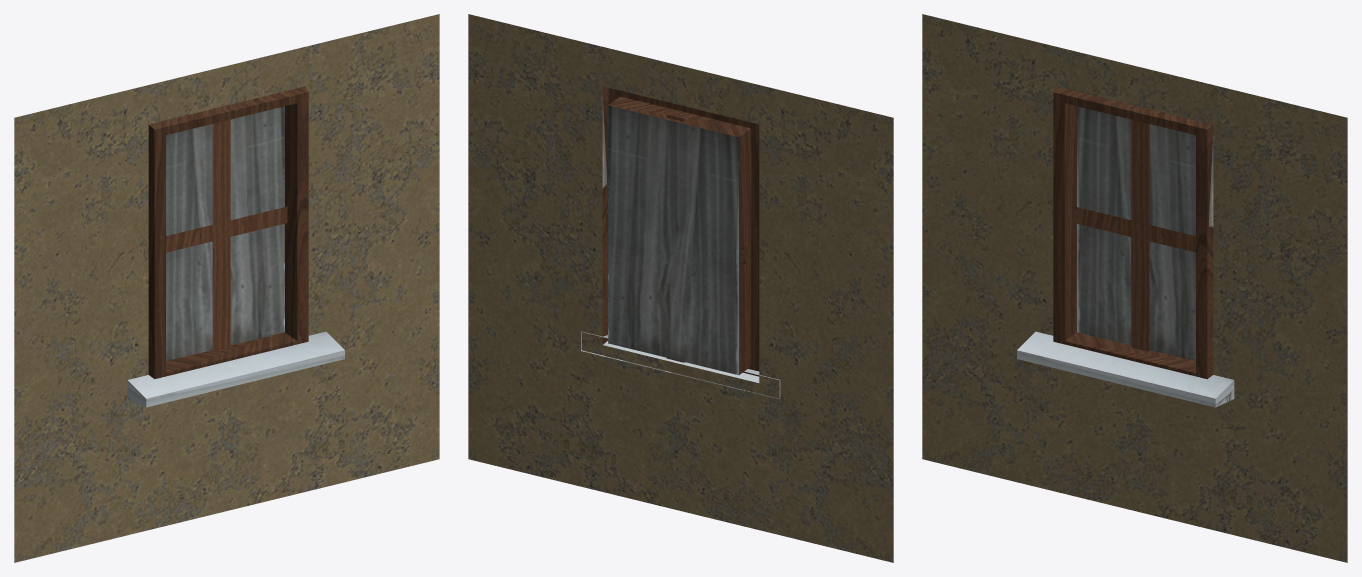
Rendered from window1.obj.
The picture shows the model from 3 angles, left to right: view 1: azimuth 30°, elevation 25°; view 2: azimuth 150°, elevation 25°; view 3: azimuth 330°, elevation 25°; orthographic projection.
Visible parts, largest first — view 1: polySurface43; view 2: polySurface43; view 3: polySurface43.
Part boxes in pixels (box(x1,y1,x2,y2)): polySurface43: box(14, 14, 439, 562); polySurface43: box(468, 14, 893, 562); polySurface43: box(922, 14, 1347, 562).
Bounding box in the file's own units: 1 × 1 × 0.1065.
1 material, 1 textured.
